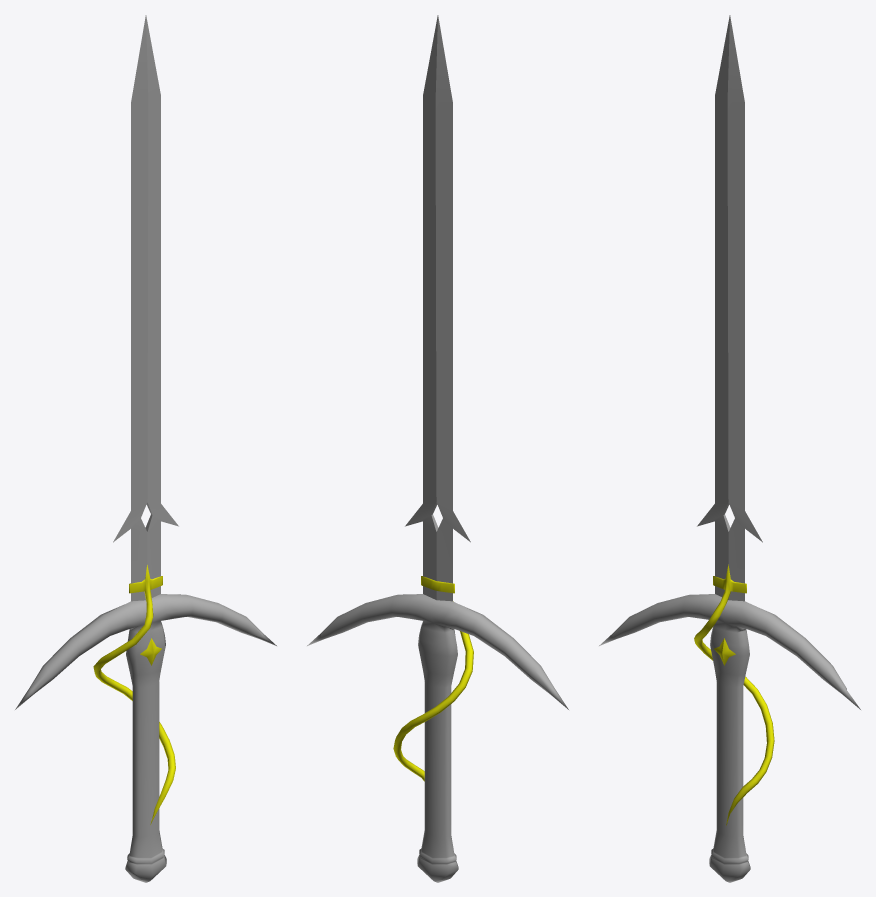
The model's file is Sword.fbx.
3 views of the same model, side by side, from view 1: azimuth 30°, elevation 25°; view 2: azimuth 150°, elevation 25°; view 3: azimuth 330°, elevation 25° (orthographic).
Visible parts, largest first — view 1: Sword1; view 2: Sword1; view 3: Sword1.
Part boxes in pixels (x1=…): Sword1: x1=15, y1=15, x2=276, y2=882; Sword1: x1=307, y1=15, x2=568, y2=882; Sword1: x1=599, y1=15, x2=860, y2=882.
Size of the model in its own units: 62.12 by 196 by 14.73.
